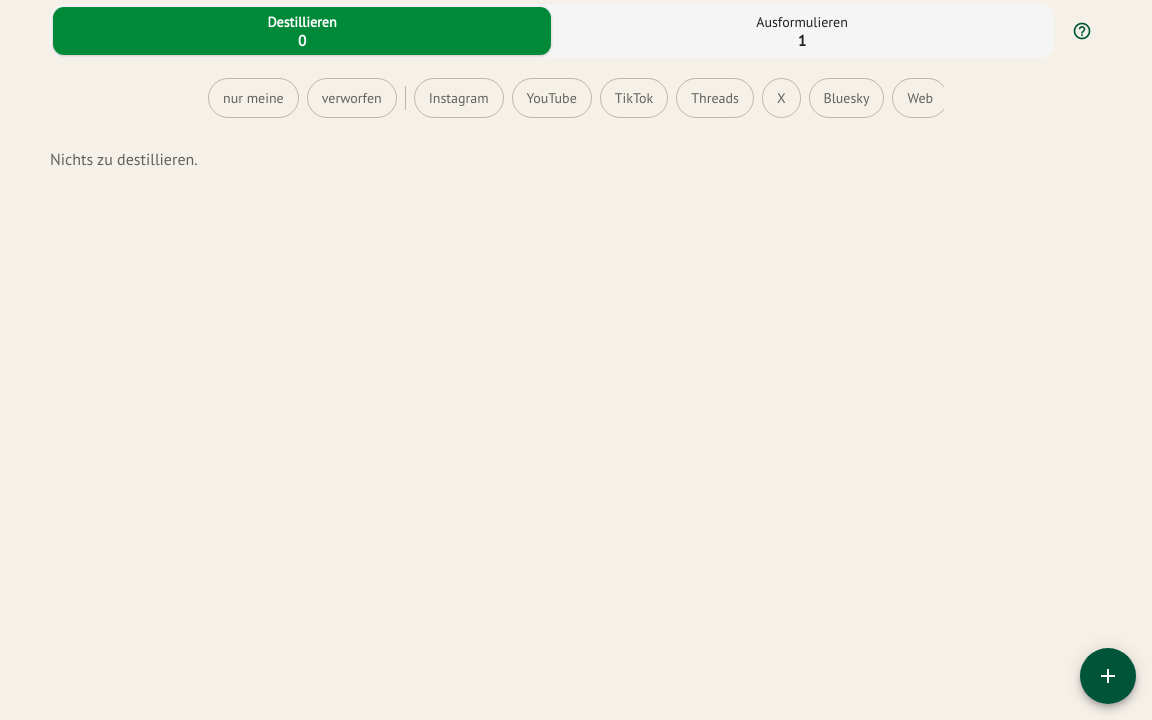
Scenario: RawInputListComponent › Saetze in der Karte › zeigt hoechstens drei Saetze und zaehlt den Rest
This screenshot has width=1152, height=720.
Click the tab with class "tab" showing "Ausformulieren 1": (802, 31) left=553, top=7, right=1051, bottom=55
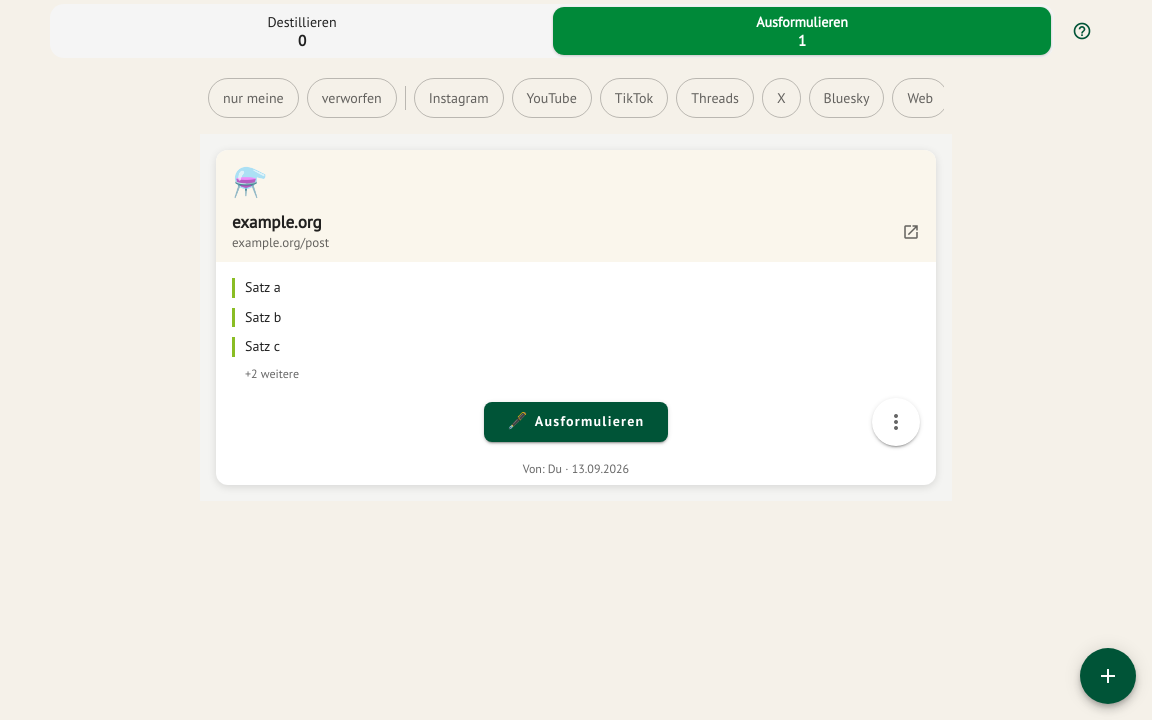
Expected: the number of list items with class "einwurf-satz" is 3, left=232, top=278, right=920, bottom=298; left=232, top=308, right=920, bottom=327; left=232, top=337, right=920, bottom=357
Expected: the list item with class "einwurf-mehr" reads "+2 weitere", left=245, top=367, right=299, bottom=381
